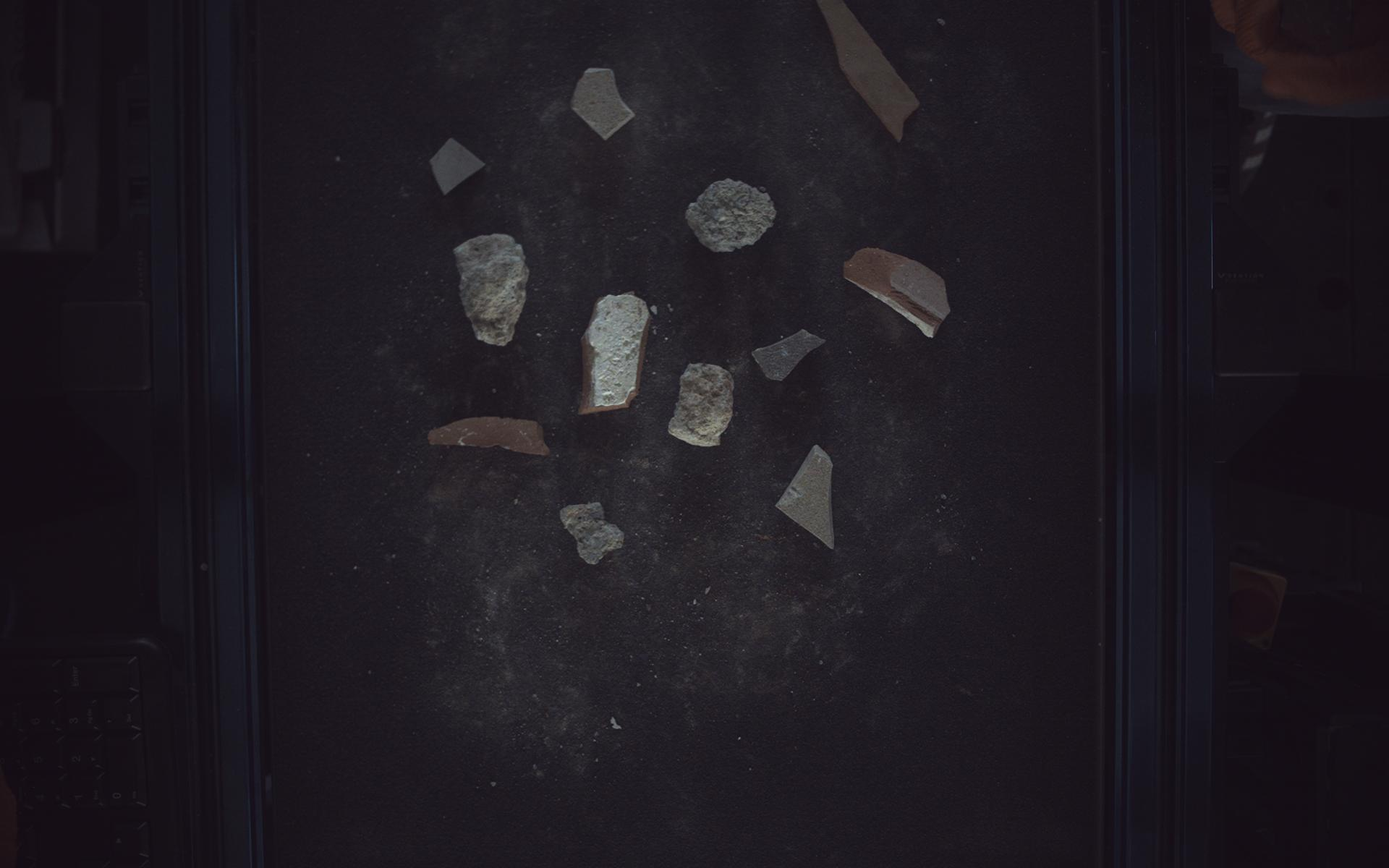brick: (820, 1, 921, 140), (845, 247, 952, 337), (580, 293, 653, 414), (428, 417, 550, 456)
concrete: (454, 233, 529, 346), (687, 178, 777, 252), (669, 363, 735, 447), (560, 503, 624, 566)
tile: (777, 445, 835, 550), (572, 67, 635, 139), (754, 329, 826, 381), (430, 137, 485, 193)
